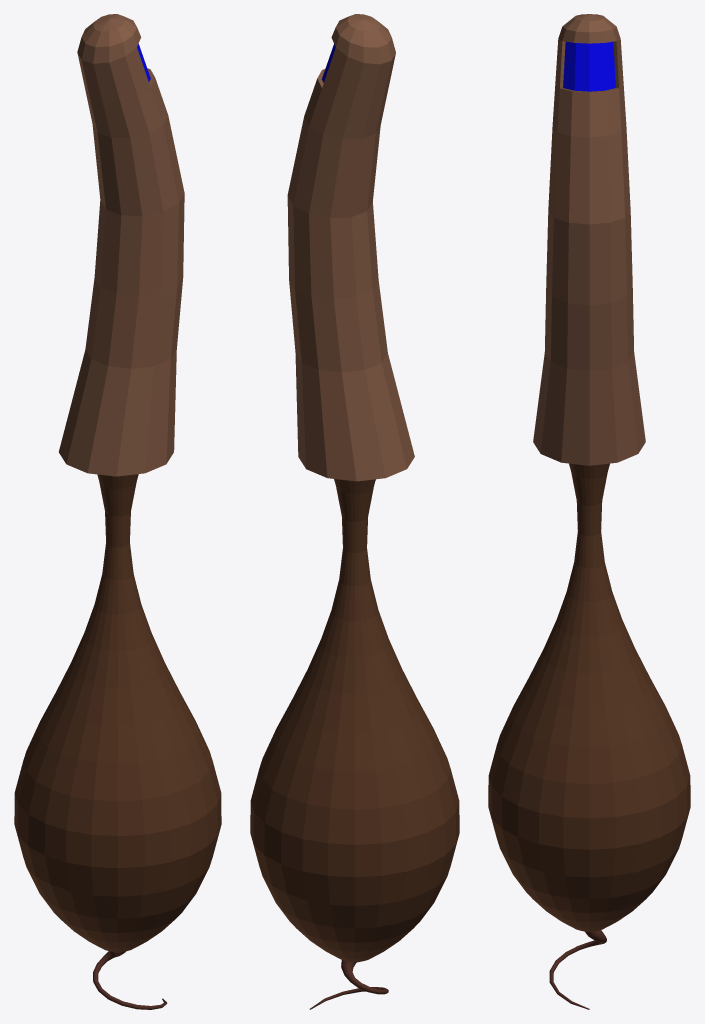
The model's file is Wand 949.glb.
3 views of the same model, side by side, from view 1: azimuth 30°, elevation 25°; view 2: azimuth 150°, elevation 25°; view 3: azimuth 270°, elevation 25° (orthographic). The views are drawn at different scales.
Parts seen in each view (by area): view 1: GeneratedWand; view 2: GeneratedWand; view 3: GeneratedWand.
Boxes of the visible parts, x1,y1,x2,y2 form: GeneratedWand: [14, 14, 221, 1009]; GeneratedWand: [250, 14, 459, 1009]; GeneratedWand: [488, 14, 690, 1009].
Bounding box in the file's own units: 0.1026 × 0.5427 × 0.1026.
